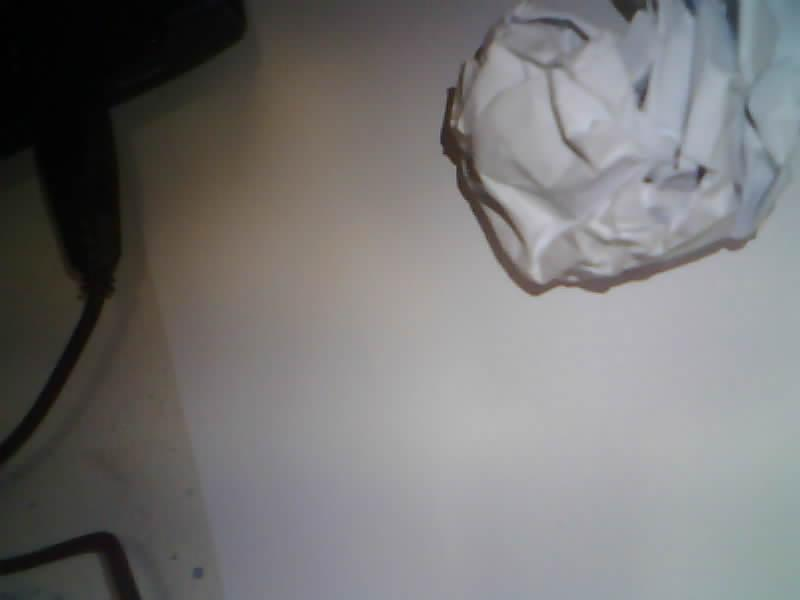biodegradable: (443, 0, 799, 288)
